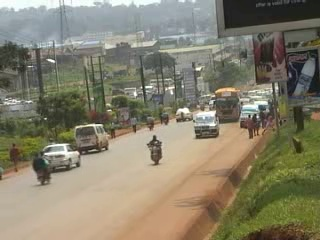Car: (40, 140, 82, 171), (172, 104, 195, 122)
Motorcycle: (32, 156, 52, 186), (146, 141, 164, 166), (146, 115, 155, 131), (161, 111, 169, 126)
